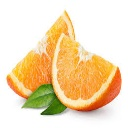orange: (50, 33, 123, 114)
